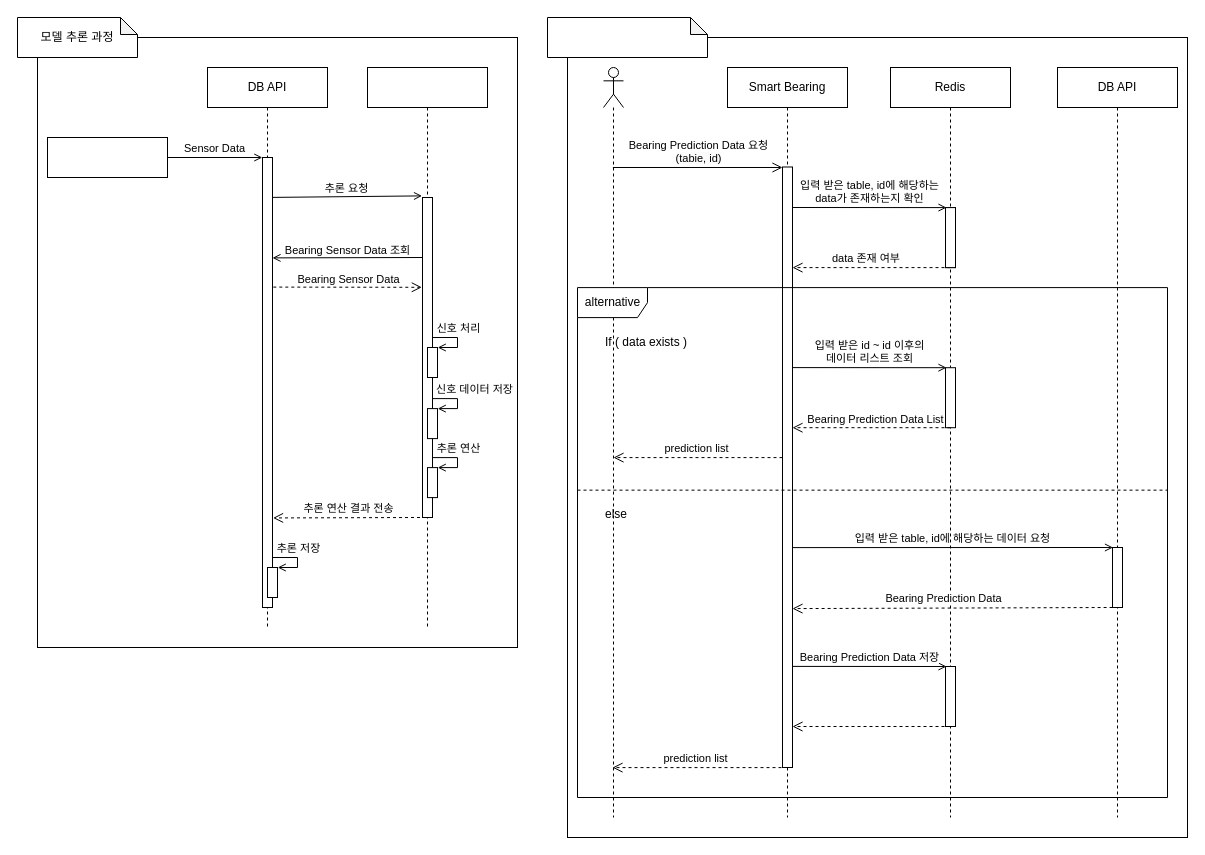
The diagram is 1205 pixels wide and 855 high, and some of its shapes have lost their labels. Each missing label, with the centre of its shape:
Bearing: (107,157)
Model API: (427,347)
베어링 데이터 불러오기: (627,37)
